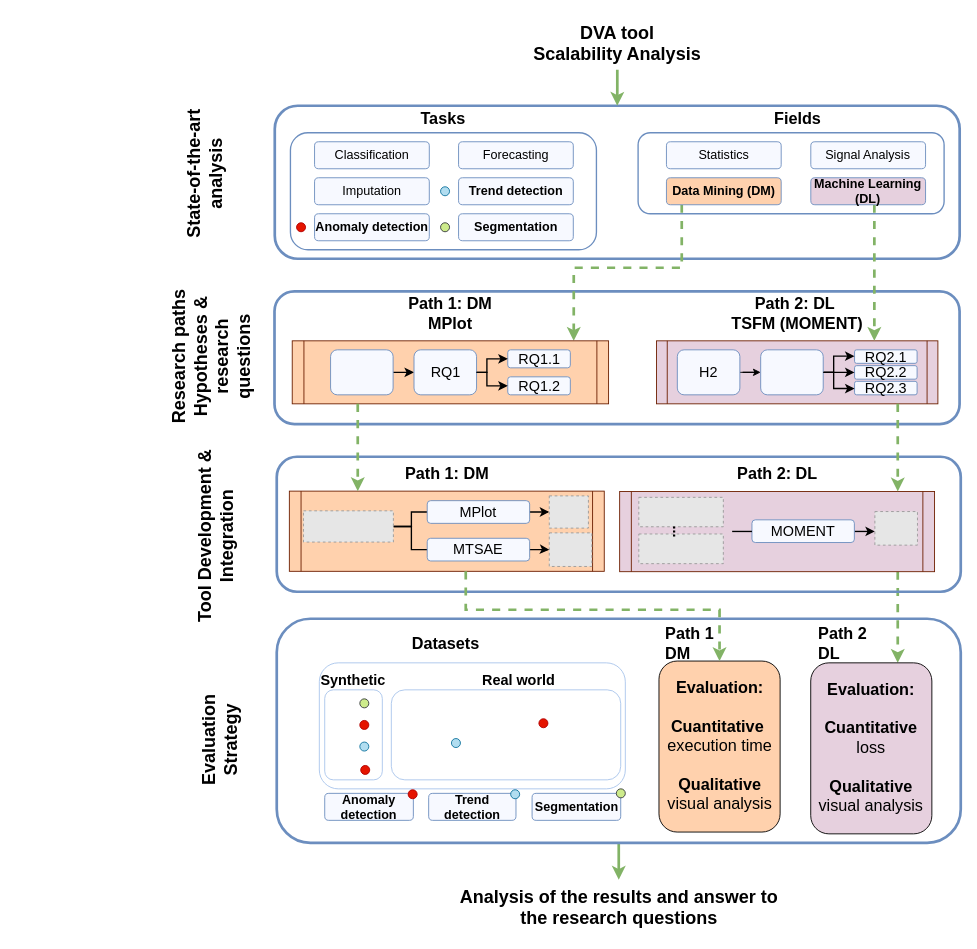
Some shapes in this 977 by 949 pixel diagram are drawn without their labels. Grey dashed boxes stand in for pictures. The centre of each missing label's shape, as x and y in pixels:
H1: the point at 361,372
Pulsus Paradoxus Kohl's Solar 4 seconds (scalability): the point at 505,734
RQ2: the point at 791,372
S1 S2 S3 Toy: the point at 353,734
